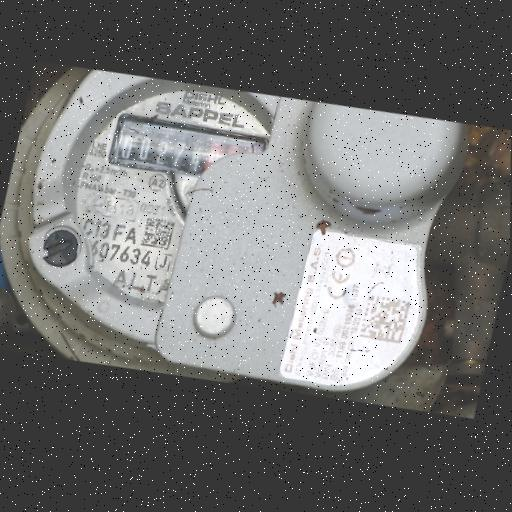0: (136, 120, 157, 162), (119, 118, 139, 160)
2: (153, 124, 175, 166)
4: (187, 131, 208, 175)
7: (168, 126, 190, 172)
9: (203, 132, 226, 174)
border_water_meter_number: (106, 101, 270, 198)
